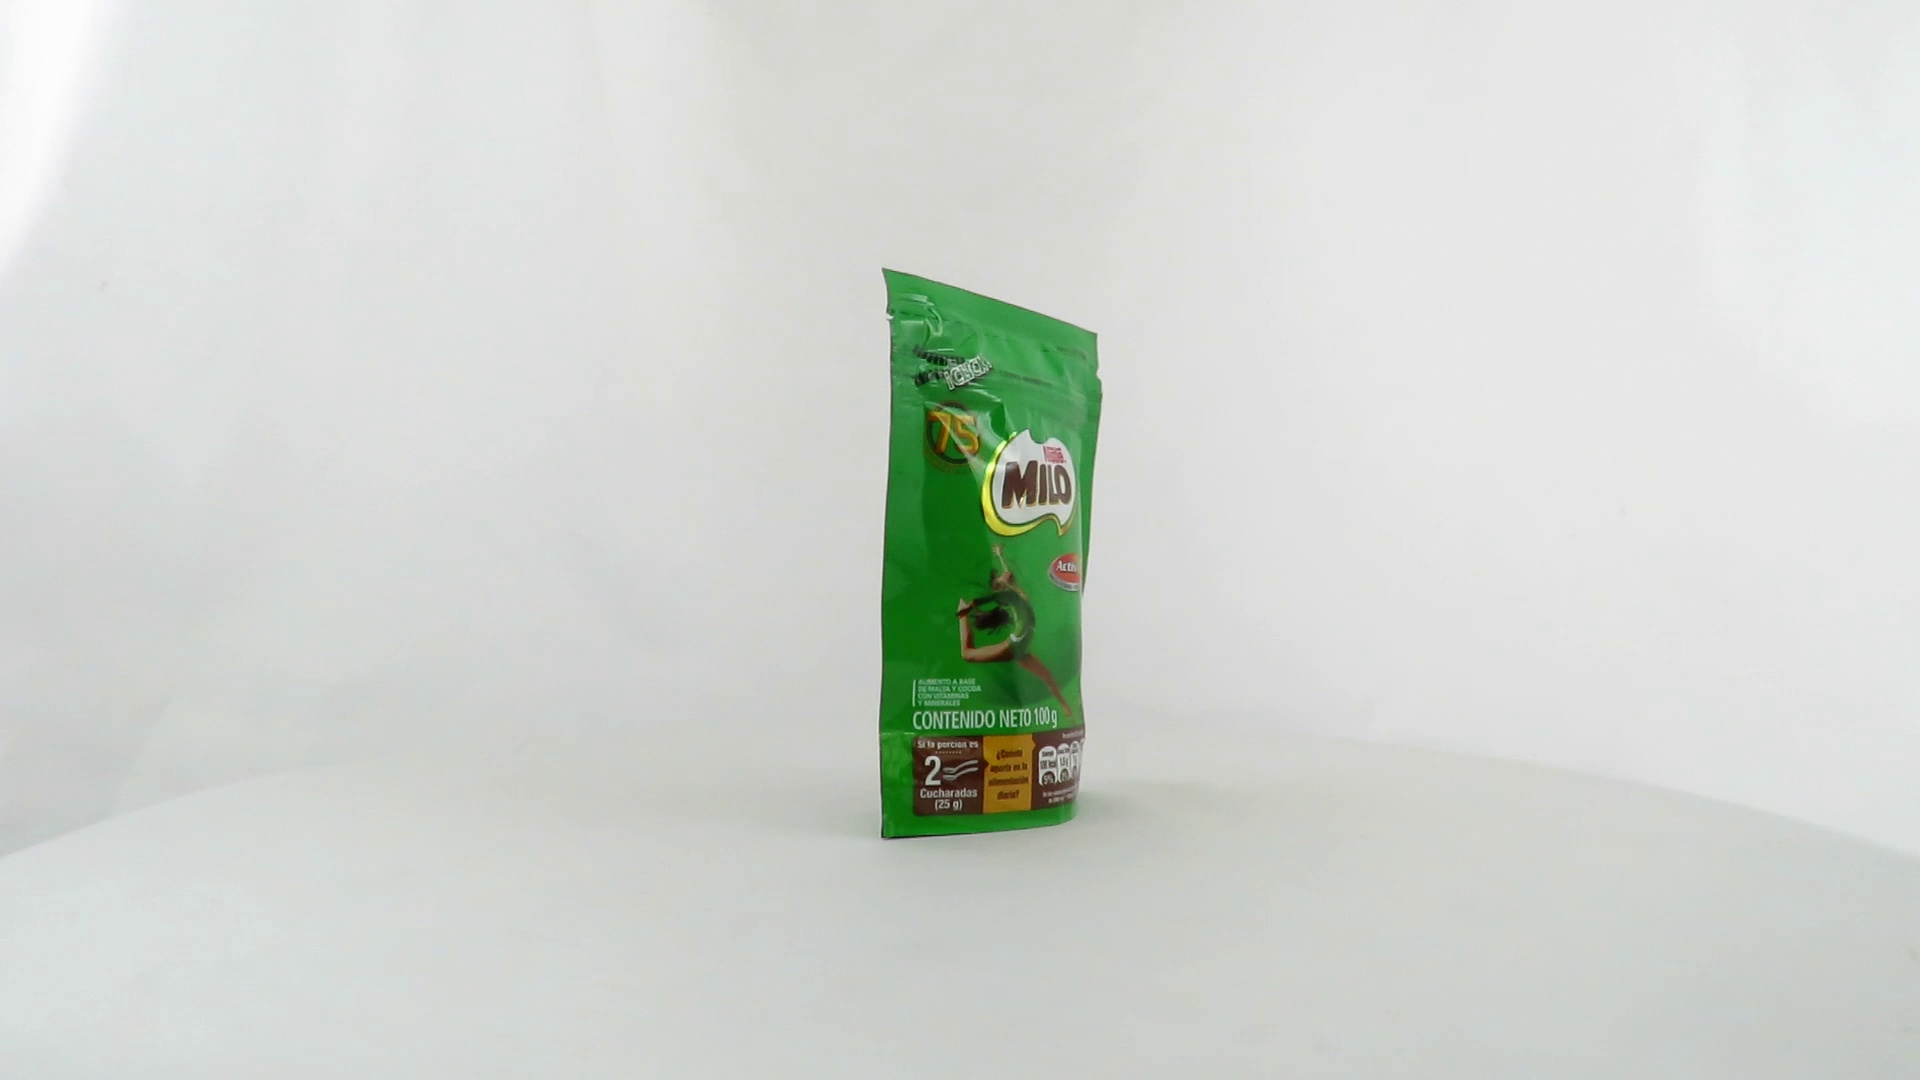COL0170203DYP10000: (873, 262, 1109, 847)
